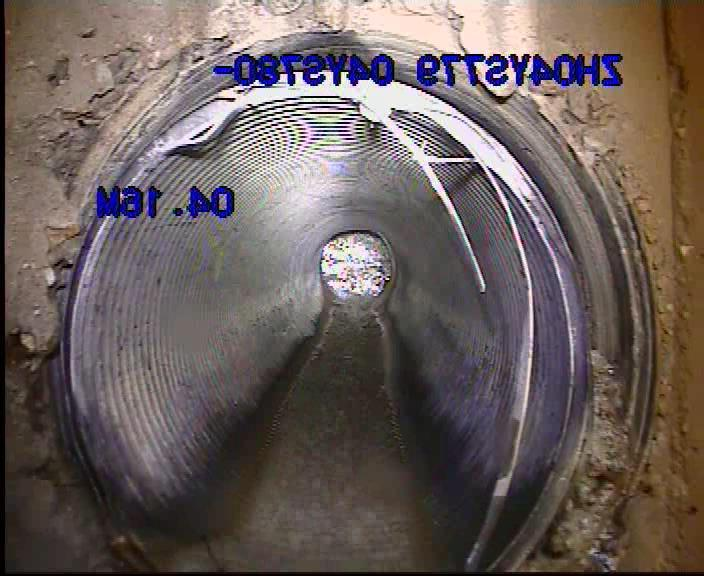JKCL: (58, 62, 593, 573)
